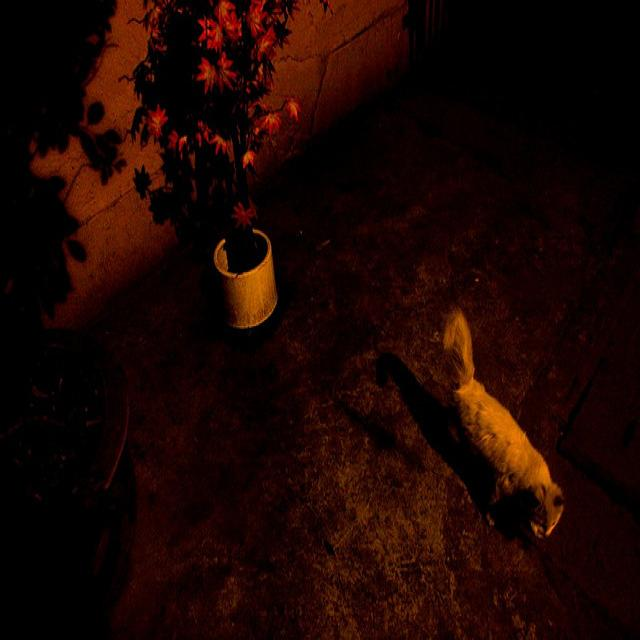Cat: (399, 271, 590, 559)
